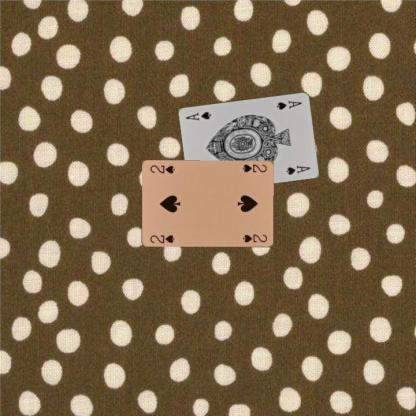2s: (240, 162, 268, 173), (148, 233, 176, 244)
As: (274, 98, 303, 111)
